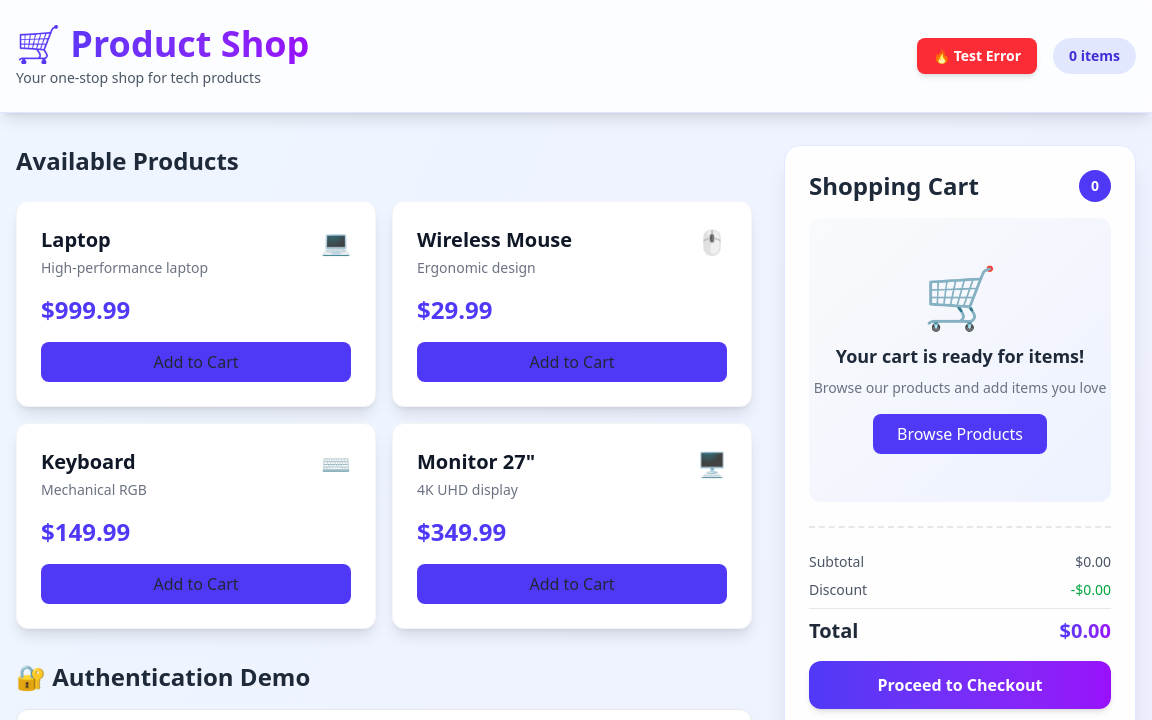
App Integration › should increment quantity when same product is added multiple times
Expected: the heading "Laptop" is shown, 41,226 -> 111,253
# Add laptop twice
Click the button "Add to Cart" below "$999.99" at (196, 362), box 41,342 -> 351,382
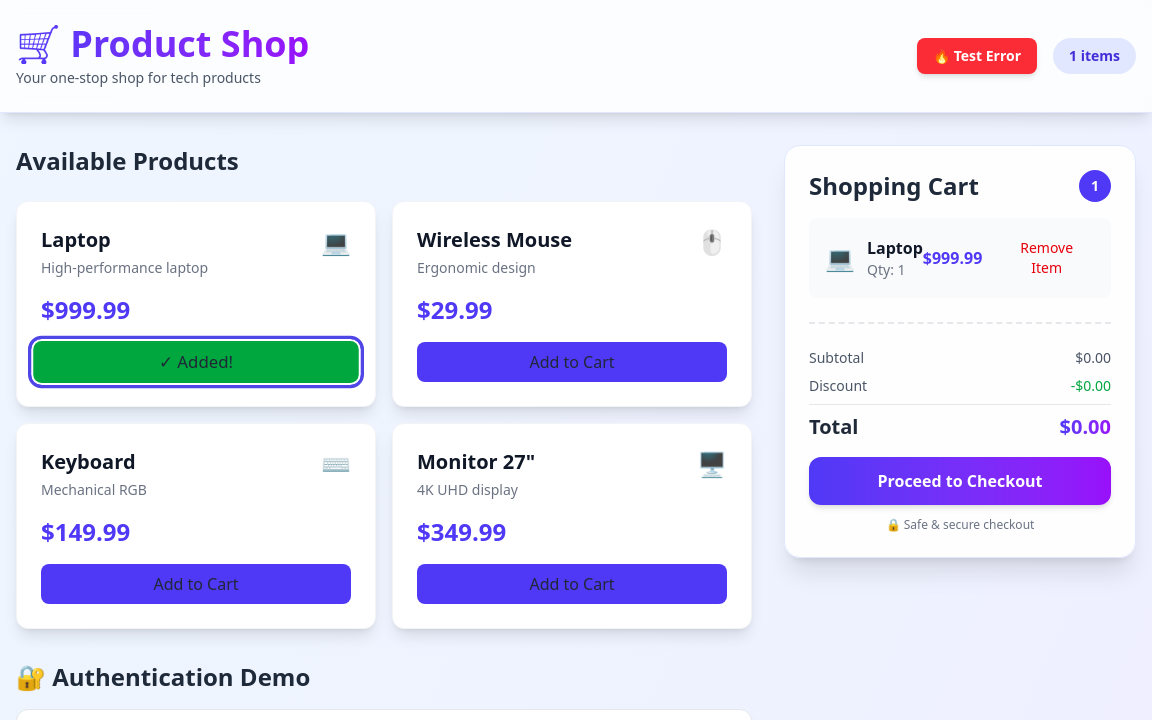
Click the button "✓ Added!" at (196, 362), box 33,341 -> 359,383
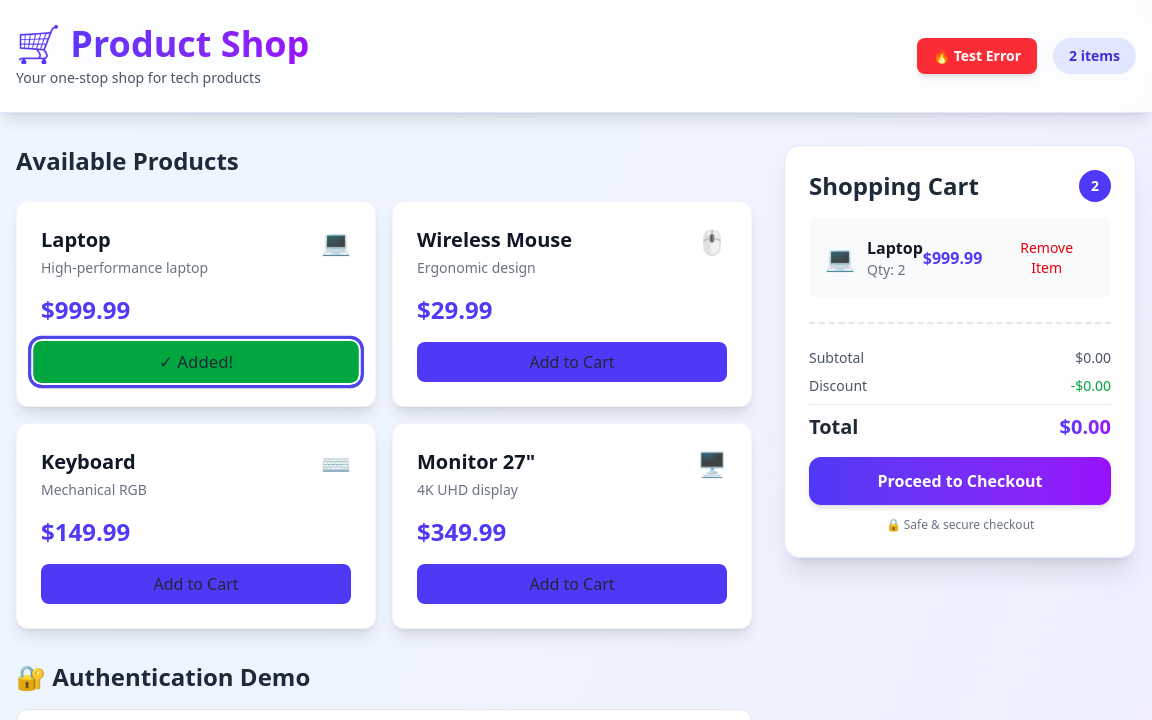
Now the text "2 items" is shown, box 1053,38 -> 1136,74
Now the text "Qty: 2" is shown, box 867,260 -> 906,279
